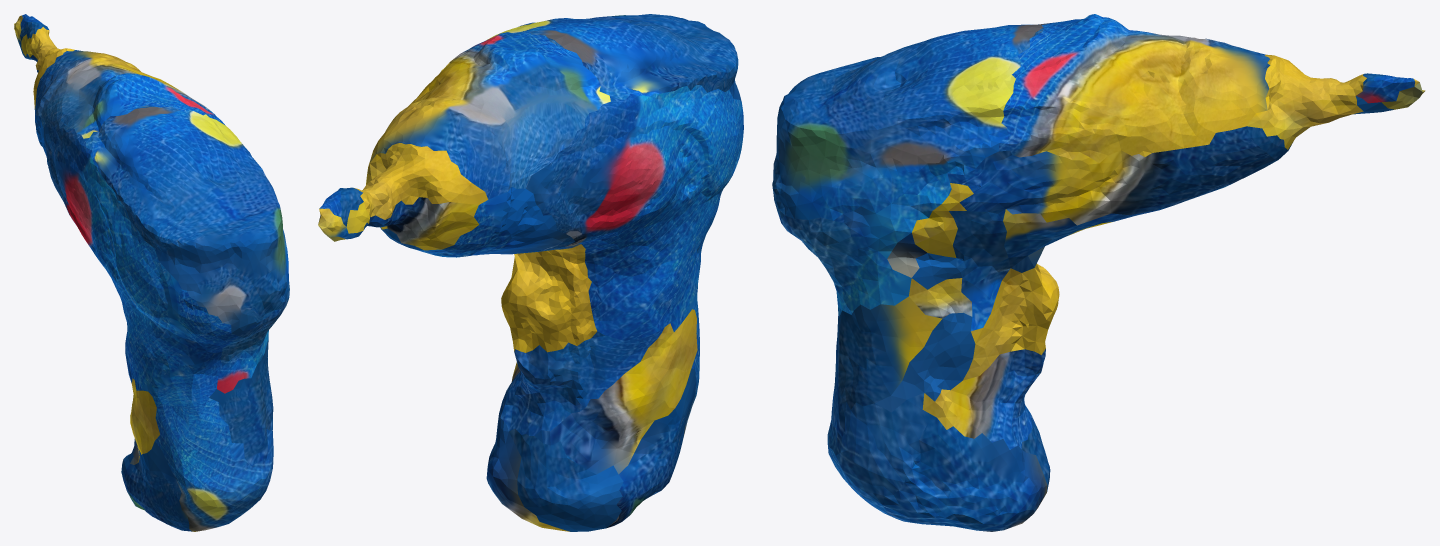
Rendered from drill_blue.obj.
3 renders of one model, left to right at view 1: azimuth 30°, elevation 25°; view 2: azimuth 150°, elevation 25°; view 3: azimuth 270°, elevation 25°, orthographic. The views are drawn at different scales.
Bounding box in the file's own units: 0.0522 × 0.1278 × 0.1525.
